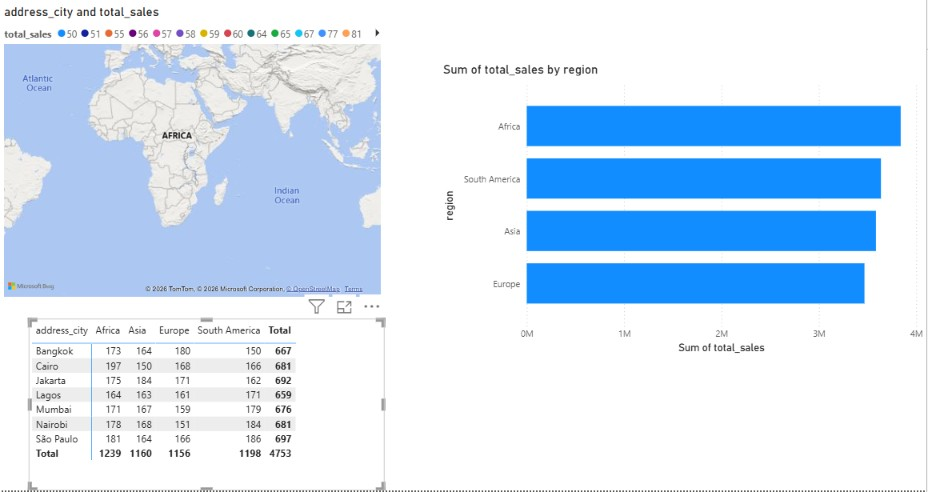

The dashboard page shown, as its layout file describes it:
{"tool":"powerbi","page":{"name":"Regional Breakdown","canvas":[1280,720],"ordinal":3},"visuals":[{"type":"filledMap","fields":{"Category":["public final_sales.address_city"],"Series":["public final_sales.total_sales"]},"box":[9.6,53.5,526.9,406.2],"z":0},{"type":"clusteredBarChart","fields":{"Category":["public final_sales.region"],"Y":["Sum(public final_sales.total_sales)"]},"box":[612,131.7,668.3,406.2],"z":1},{"type":"pivotTable","fields":{"Rows":["public final_sales.address_city"],"Columns":["public final_sales.region"],"Values":["CountNonNull(public final_sales.order_id)"]},"box":[48,484.4,488.5,236],"z":2}]}

Visuals, with their boxes on the page's 1280x720 design canvas (x1, y1, x2, y2). These are canvas units, not pixel positions in the 928x492 screenshot, which may show the page scaled, cropped or inside an application window:
filledMap - public final_sales.address_city x public final_sales.total_sales: 10,54,536,460
clusteredBarChart - public final_sales.region x Sum(public final_sales.total_sales): 612,132,1280,538
pivotTable - public final_sales.address_city x public final_sales.region: 48,484,536,720
